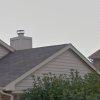Chimney: (6, 21, 33, 53)
